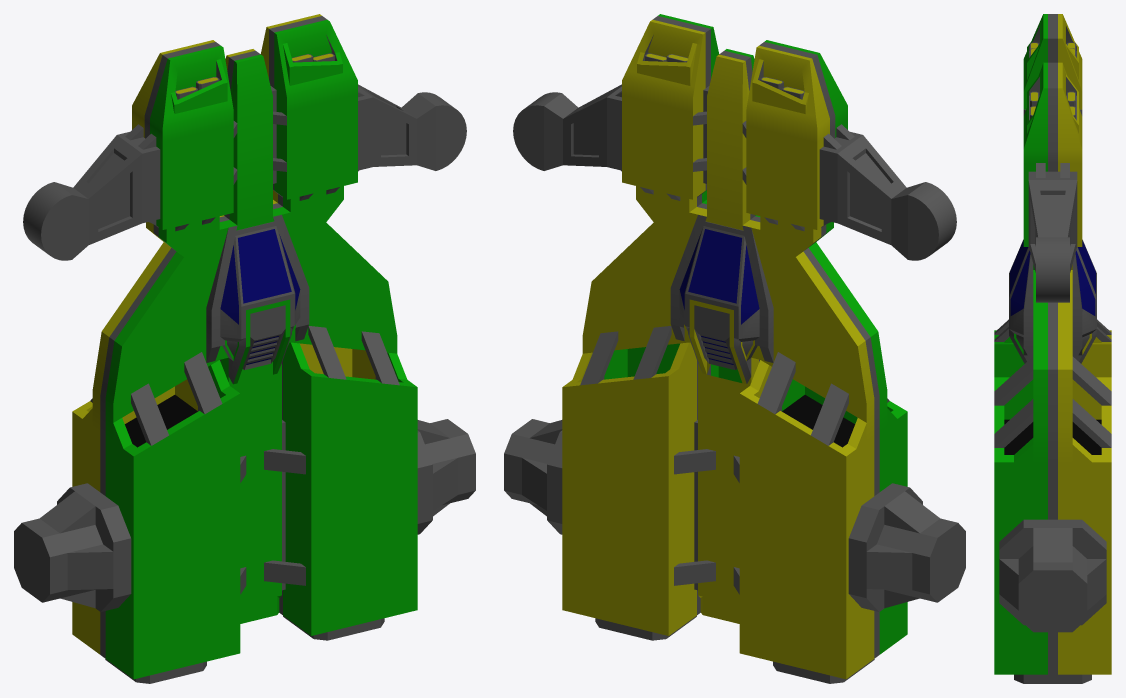
Rendered from Venom.obj.
The picture shows the model from 3 angles, left to right: view 1: azimuth 30°, elevation 25°; view 2: azimuth 150°, elevation 25°; view 3: azimuth 270°, elevation 25°; orthographic projection. The views are drawn at different scales.
Size of the model in its own units: 4.8 by 6.5 by 1.2.
